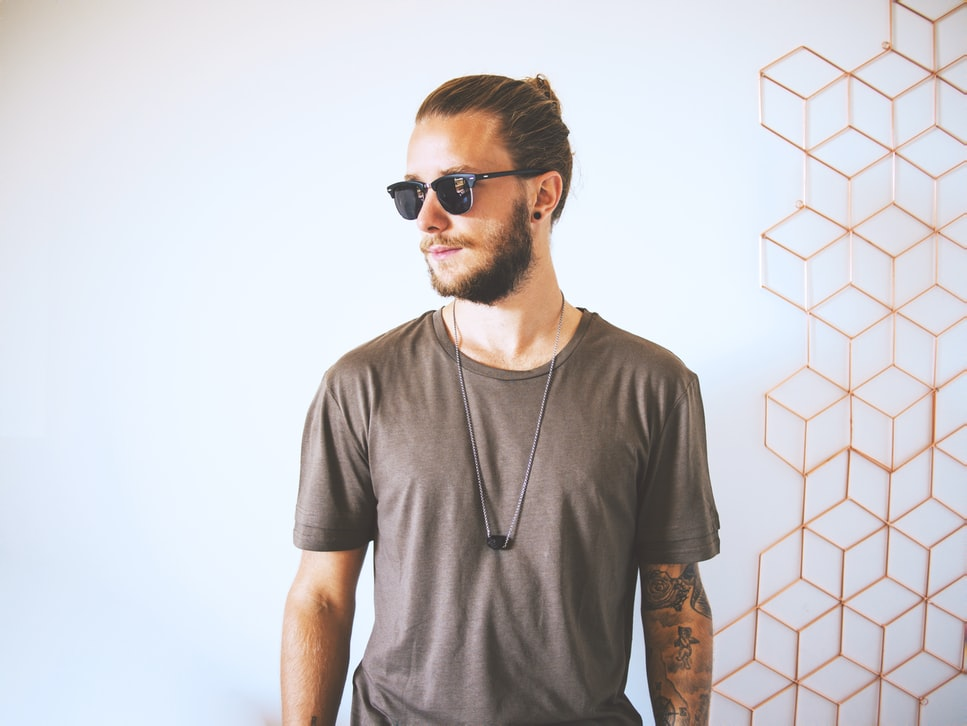beard: (417, 224, 543, 308)
glasses: (381, 167, 492, 223)
